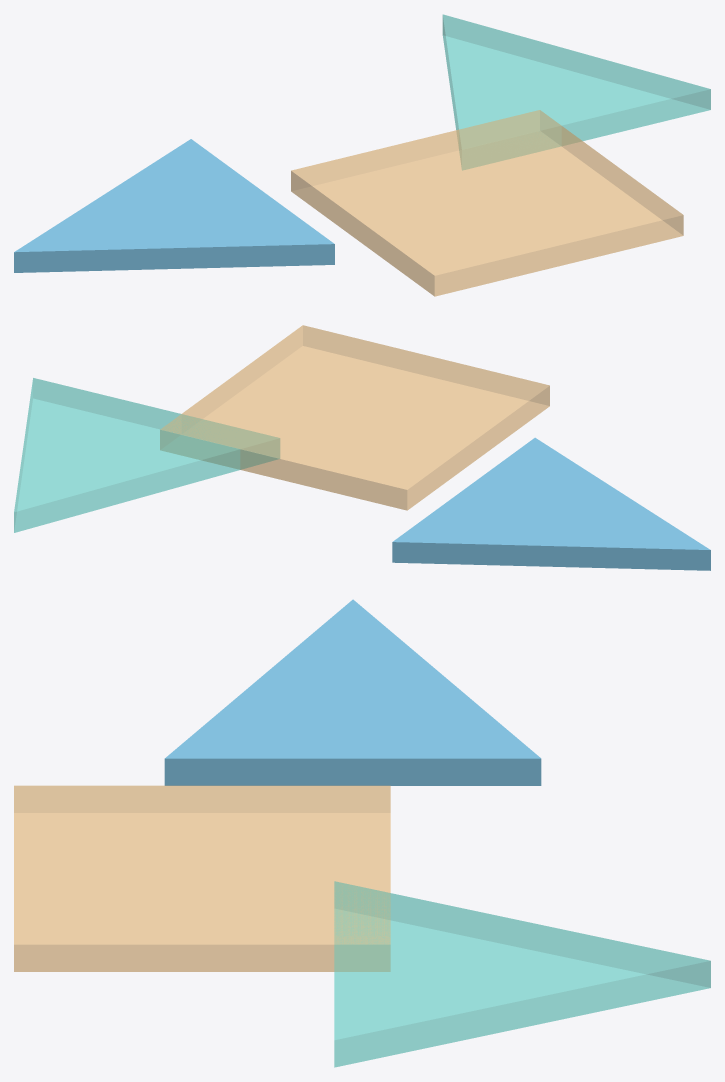
The model's file is uccello_step4.glb.
3 renders of one model, top to bottom at view 1: azimuth 30°, elevation 25°; view 2: azimuth 150°, elevation 25°; view 3: azimuth 270°, elevation 25°, orthographic. The views are drawn at different scales.
Visible parts, largest first — view 1: quadrato_piccolo, triangolo_isoscele_grande, triangolo_isoscele_piccolo; view 2: quadrato_piccolo, triangolo_isoscele_grande, triangolo_isoscele_piccolo; view 3: quadrato_piccolo, triangolo_isoscele_piccolo, triangolo_isoscele_grande.
Part boxes in pixels (box(x1,y1,x2,y2)): quadrato_piccolo: box(291, 110, 683, 296); triangolo_isoscele_grande: box(14, 139, 334, 272); triangolo_isoscele_piccolo: box(442, 14, 710, 170); quadrato_piccolo: box(160, 325, 549, 510); triangolo_isoscele_grande: box(392, 437, 710, 570); triangolo_isoscele_piccolo: box(14, 378, 279, 532); quadrato_piccolo: box(14, 785, 390, 971); triangolo_isoscele_piccolo: box(334, 881, 710, 1067); triangolo_isoscele_grande: box(164, 599, 541, 785).
Size of the model in its own units: 2.77 by 0.08 by 1.85.
